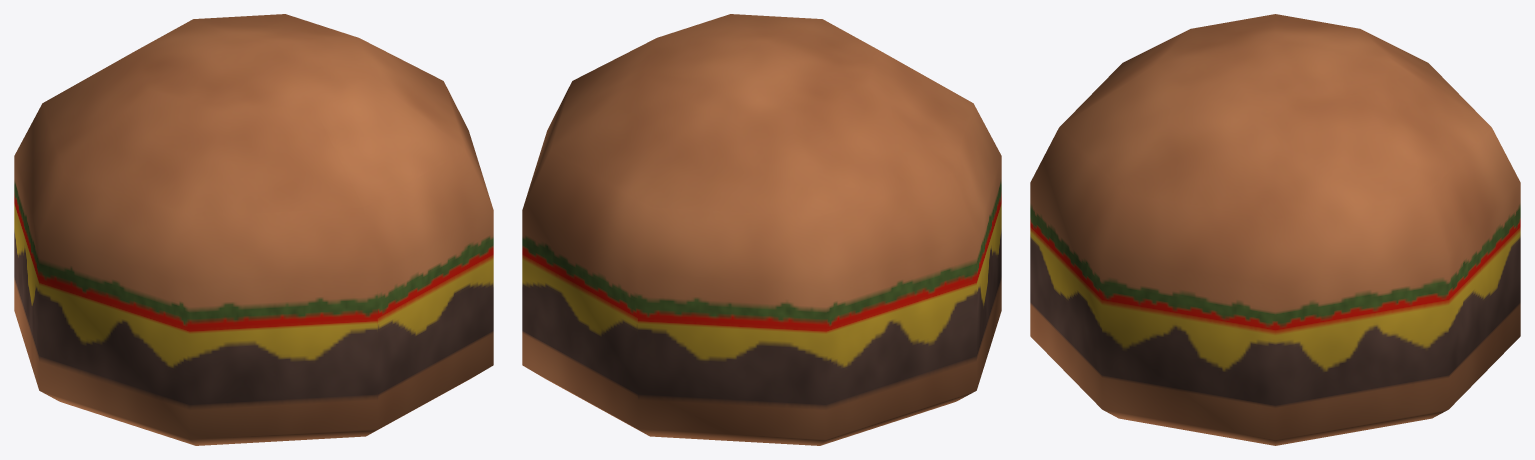
3 views of the same model, side by side, from view 1: azimuth 30°, elevation 25°; view 2: azimuth 150°, elevation 25°; view 3: azimuth 270°, elevation 25° (orthographic).
Visible parts, largest first — view 1: Burger; view 2: Burger; view 3: Burger.
Part boxes in pixels (x1,y1,x2,y2): Burger: (14, 14, 493, 445); Burger: (522, 14, 1001, 445); Burger: (1030, 14, 1520, 445).
Size of the model in its own units: 0.1166 by 0.0808 by 0.1166.
1 material, 1 textured.
